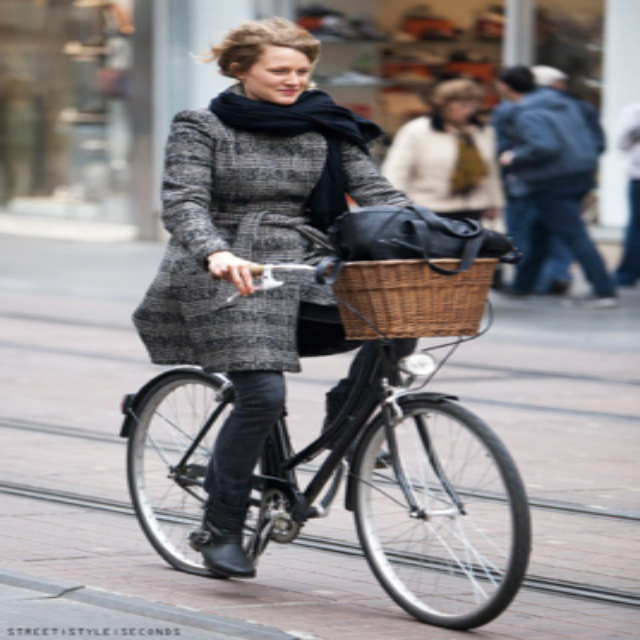Person: (206, 14, 338, 109)
